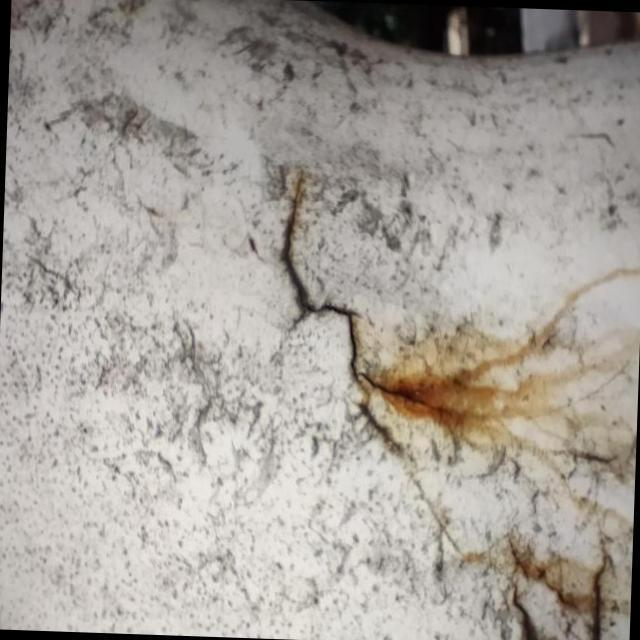defect: (277, 167, 446, 416)
